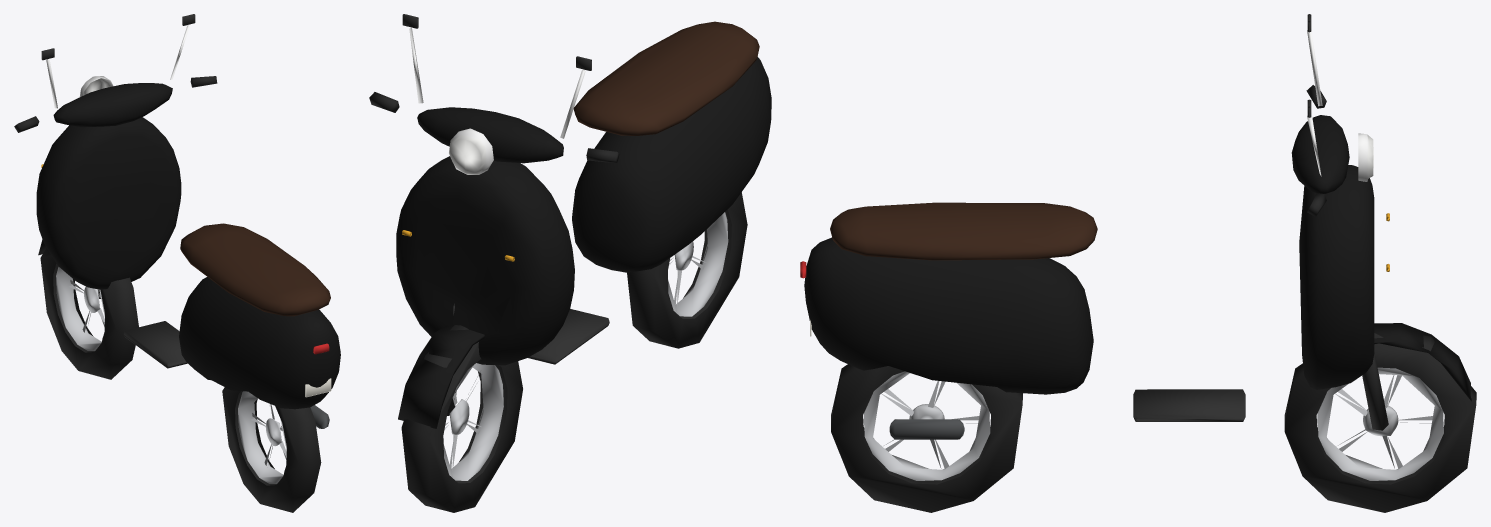
File: scooter_1_lo.glb
3 views of the same model, side by side, from view 1: azimuth 30°, elevation 25°; view 2: azimuth 150°, elevation 25°; view 3: azimuth 270°, elevation 25° (orthographic). The views are drawn at different scales.
Visible parts, largest first — view 1: body, wheel_1, wheel_0; view 2: body, wheel_0, wheel_1; view 3: body, wheel_0, wheel_1.
Part boxes in pixels (box(x1,y1,x2,y2)): body: box(14, 14, 340, 428); wheel_1: box(222, 387, 321, 512); wheel_0: box(40, 248, 138, 379); body: box(369, 14, 771, 428); wheel_0: box(401, 325, 522, 512); wheel_1: box(627, 192, 747, 348); body: box(800, 14, 1471, 439); wheel_0: box(1284, 333, 1476, 512); wheel_1: box(831, 364, 1022, 512).
Size of the model in its own units: 0.7686 by 1.32 by 1.8.
